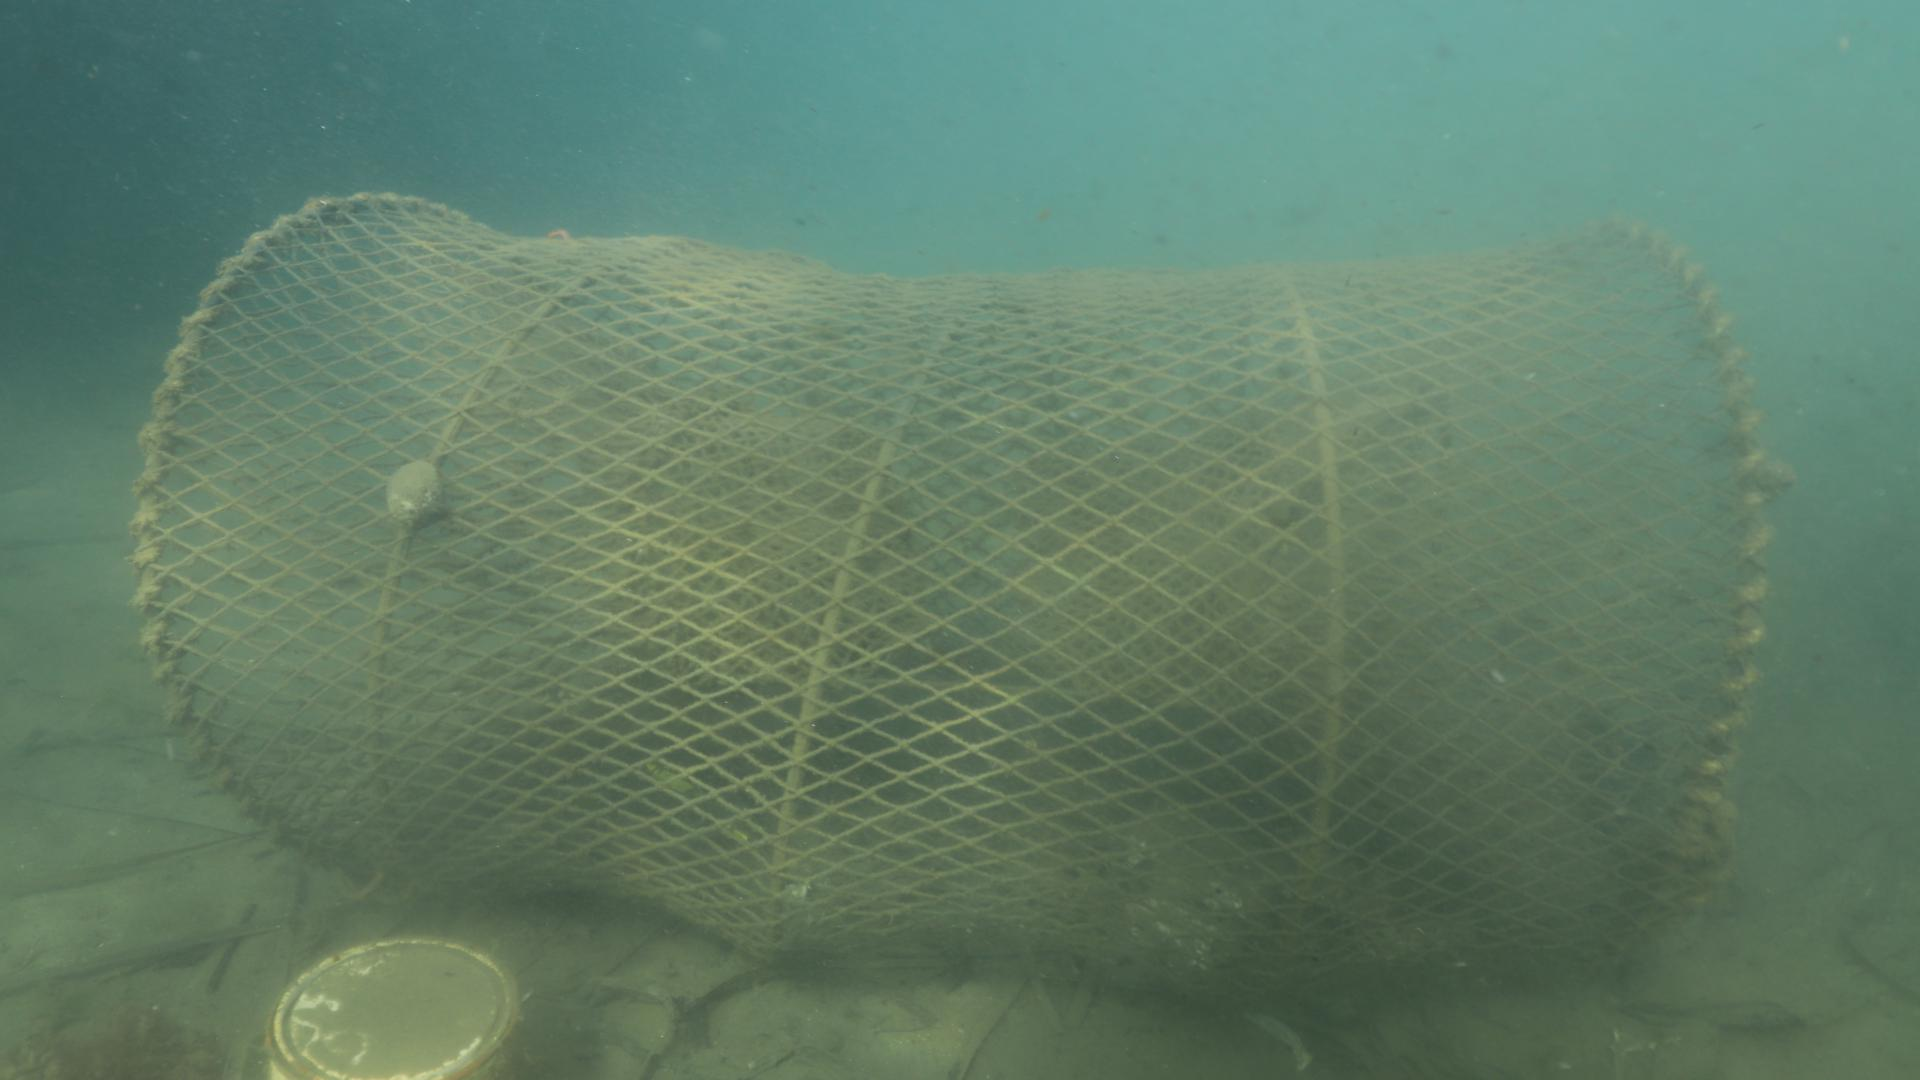spring fish trap: (124, 183, 1770, 1027)
